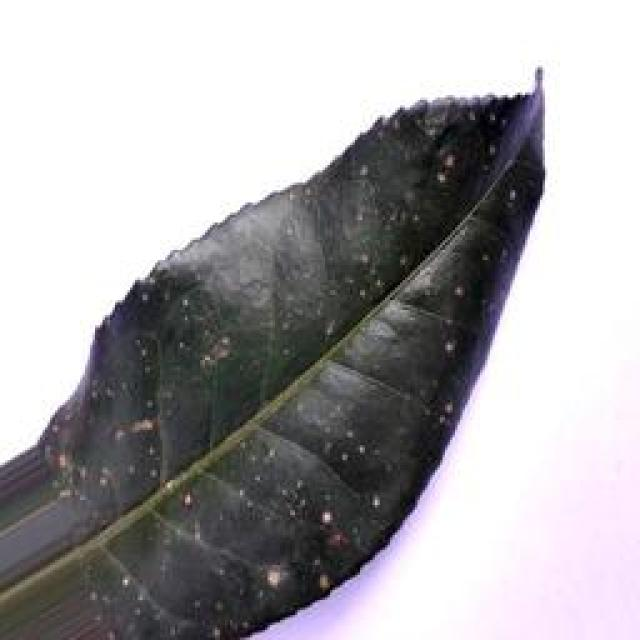Algal Leaf Spot: (58, 64, 549, 640)
